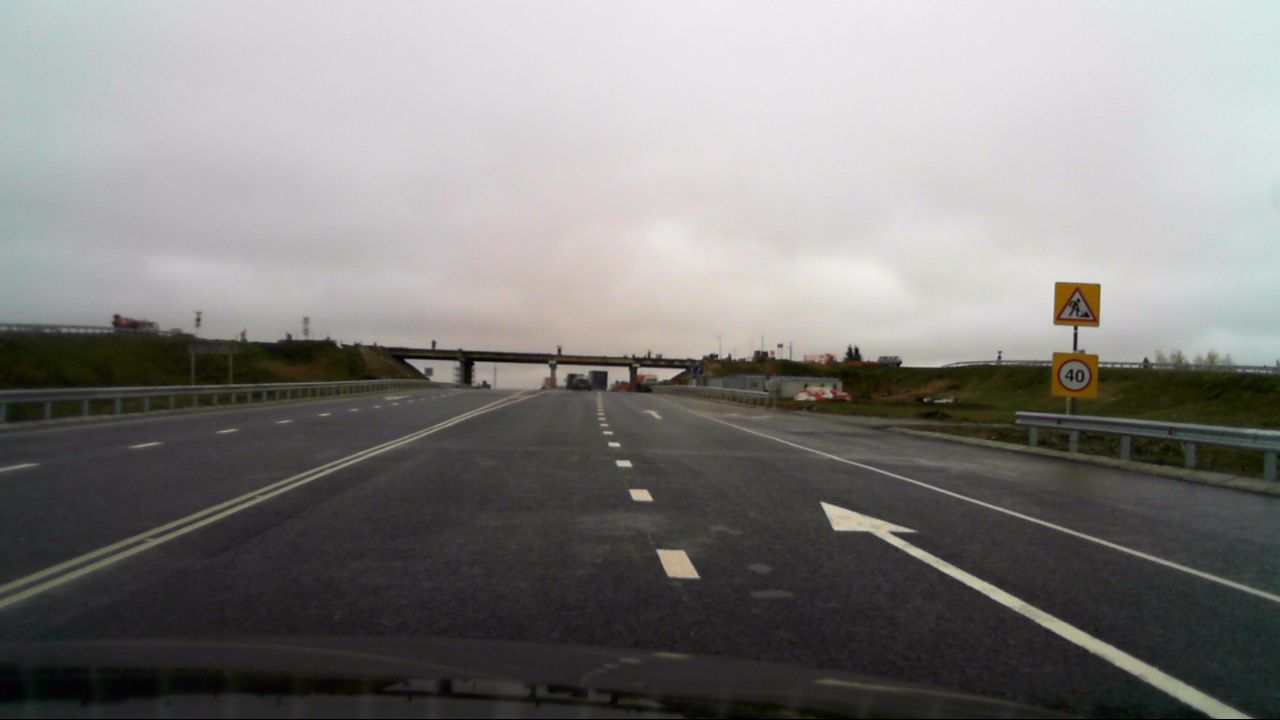speed_warning_40: (1052, 353, 1097, 399)
